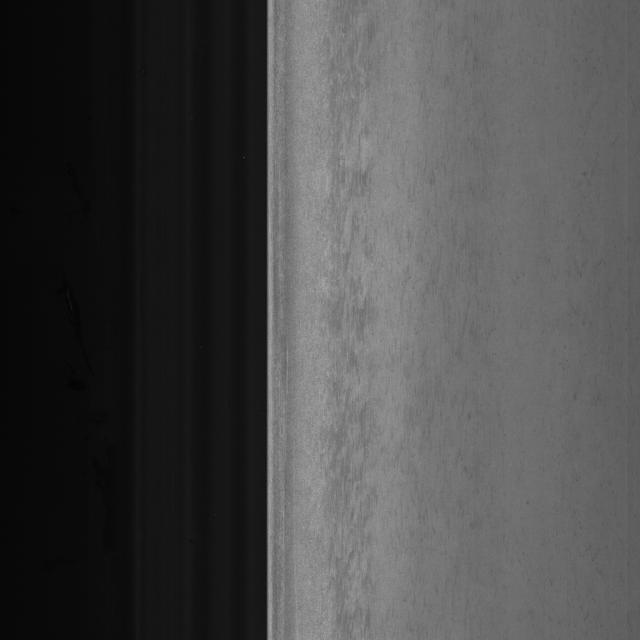inclusion: (308, 77, 386, 639)
